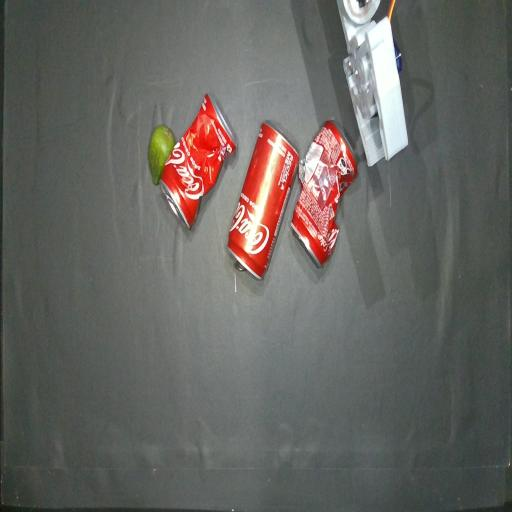higo: (148, 125, 175, 185)
lata: (227, 123, 299, 278)
lata_defectuoso: (160, 94, 236, 228), (291, 121, 357, 266)
